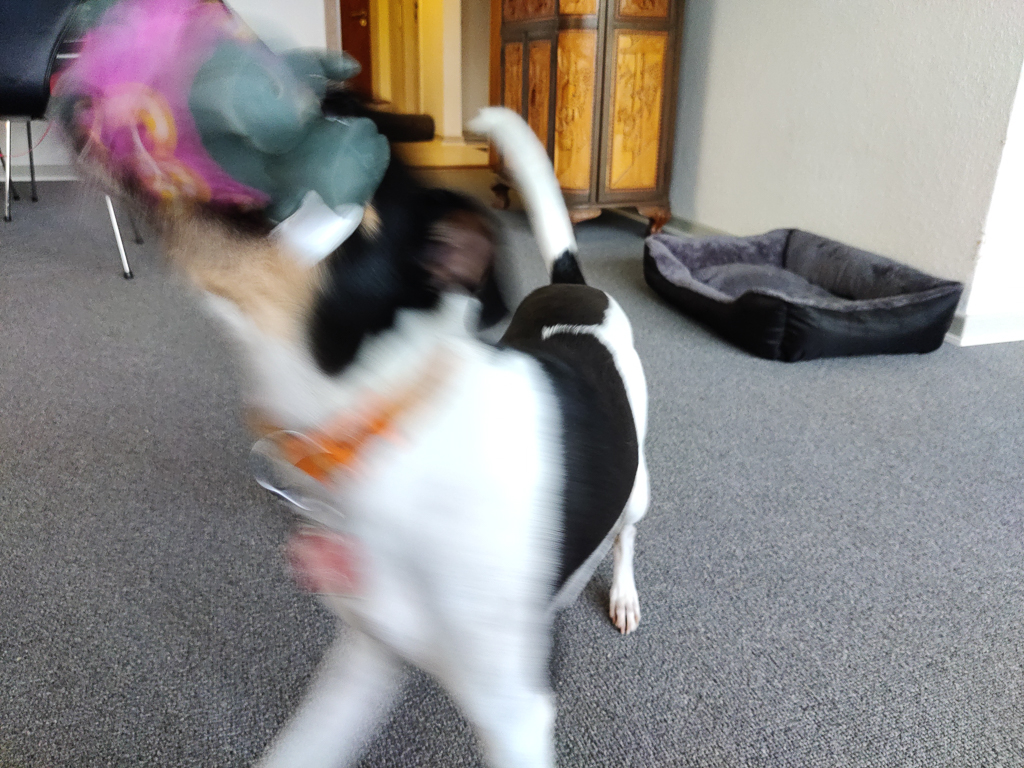Dog: (72, 33, 671, 768)
Humanoid: (33, 0, 412, 289)
